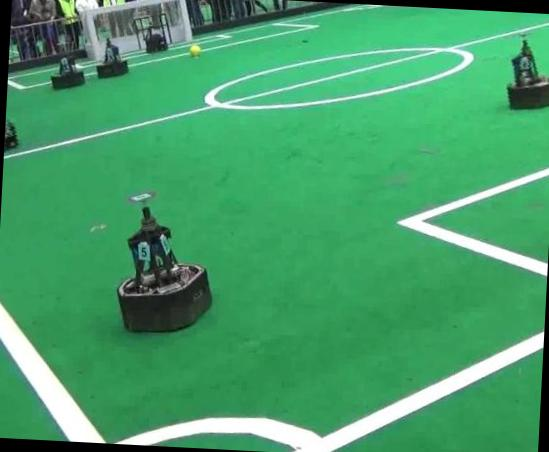ball: (188, 44, 200, 57)
goal: (83, 10, 99, 58), (179, 0, 191, 41)
robot: (117, 207, 210, 331), (507, 40, 549, 108), (131, 12, 172, 53), (50, 54, 85, 89), (96, 38, 127, 77)
